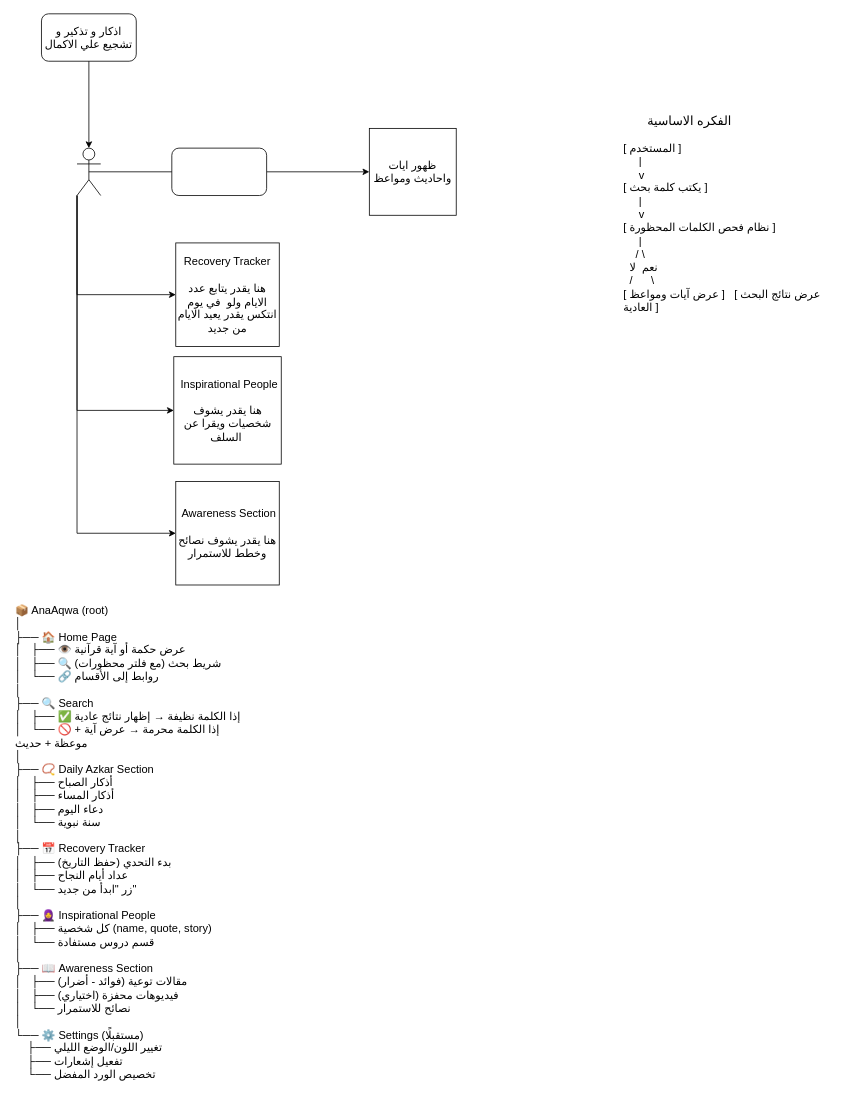
The diagram is 845 pixels wide and 1104 high, and some of its shapes have lost their labels. Here are the shapes that lost their labels. From the top down, the centre of each, then its label:
At (x=88, y=171): "Actor".
At (x=219, y=171): "search in google".
